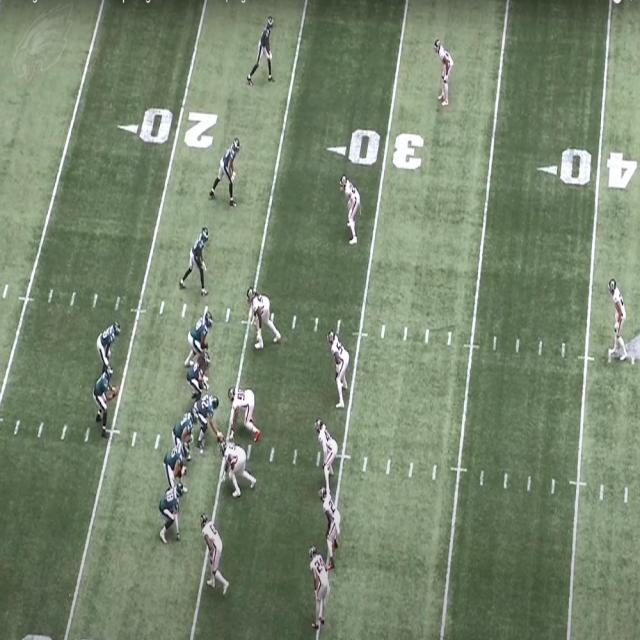center: (192, 394, 218, 438)
db: (308, 545, 330, 623), (340, 170, 362, 243), (609, 278, 628, 357), (433, 38, 454, 105)
lb: (314, 414, 339, 484), (320, 487, 342, 565), (328, 330, 350, 407)
qb: (92, 363, 120, 437)
skill: (199, 511, 228, 592), (210, 138, 241, 209), (180, 225, 210, 298), (247, 286, 280, 351), (249, 15, 275, 86), (160, 482, 182, 538), (97, 318, 121, 363)
